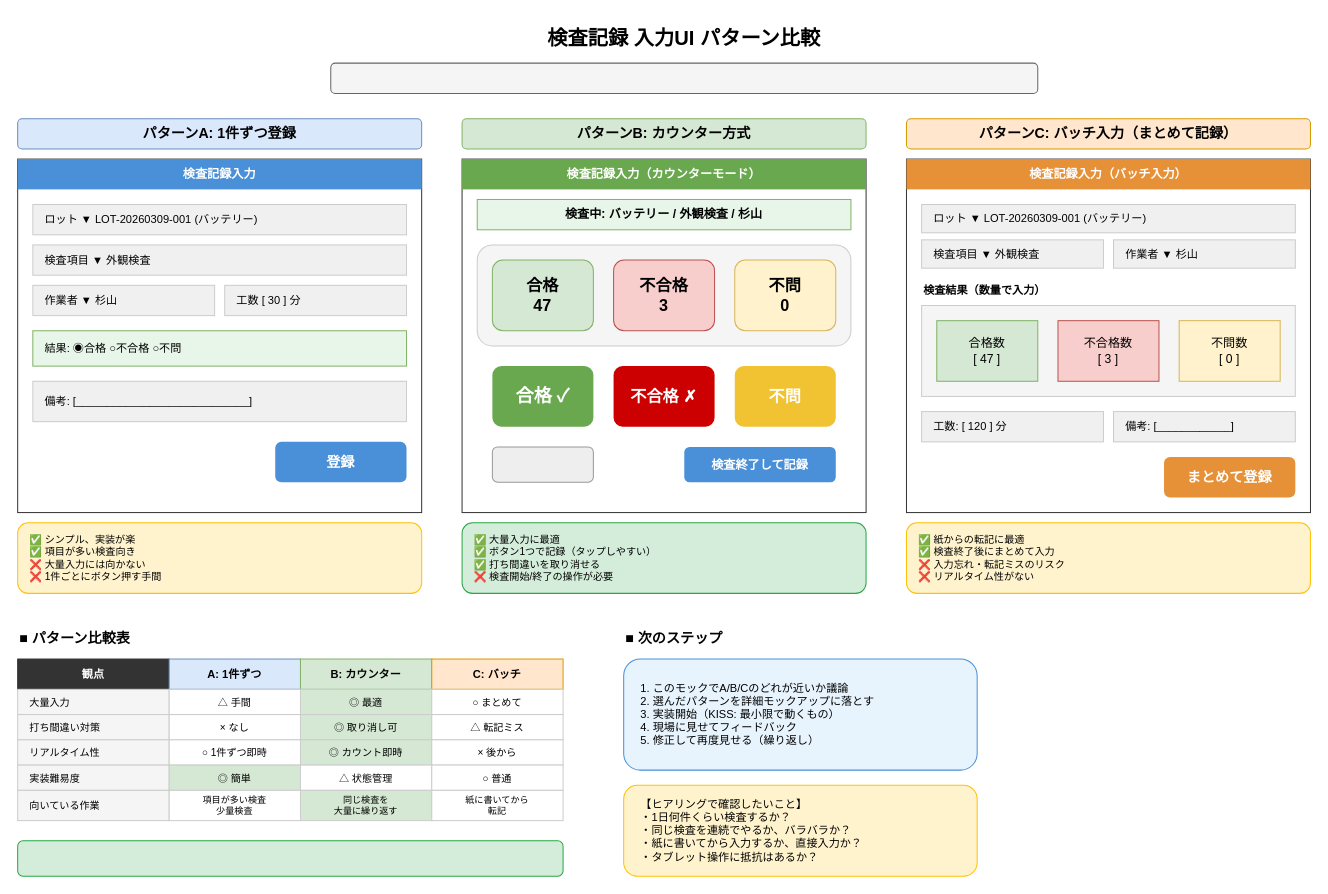
Image size: 1328x894. Some labels were removed from this diagram. The shapes that lost their labels are listed below. From the top down, each one's box as (x1, y1, x2, y2) in pixels, then its label:
(330, 62, 1038, 93): どのパターンが現場の実態に近いか？ → 意見をもらって決める
(491, 446, 593, 482): ↩ 取り消し
(17, 840, 563, 876): 推奨: パターンB（カウンター方式）を叩き台として作成し、現場に見せてフィードバックを得る
